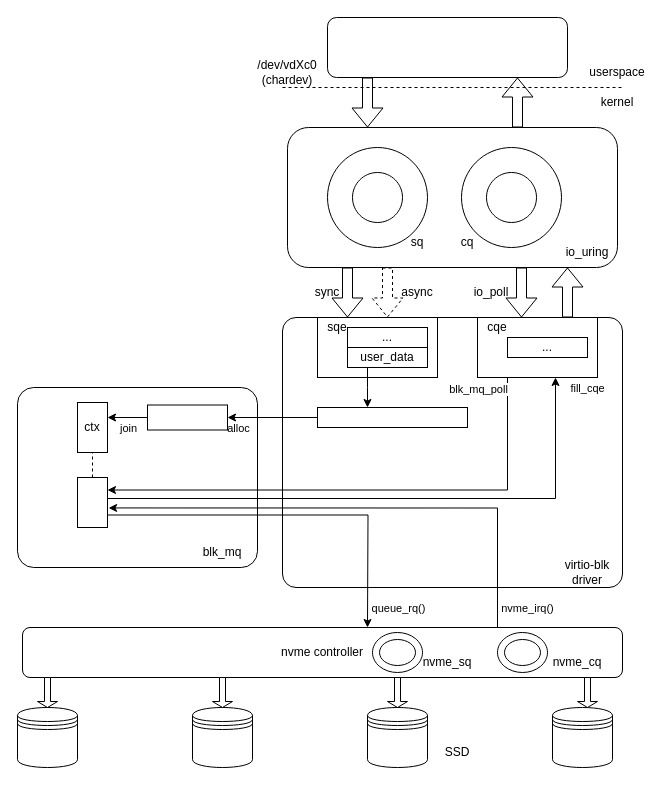
Image size: 665x785. Some labels were removed from this diagram. Each missing label, with the box of its shape:
hctx: (76, 476, 108, 528)
request: (146, 404, 228, 430)
UserApp(UserDriver): (326, 16, 568, 78)
virtblk uring command: (316, 406, 468, 428)
